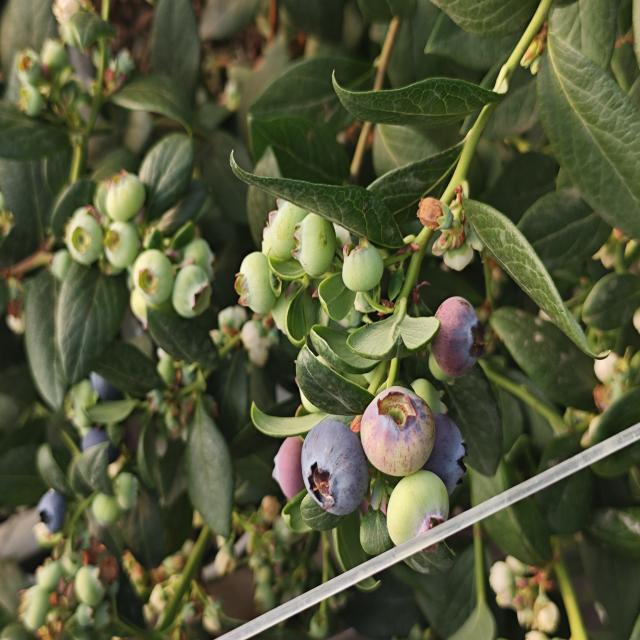ripe: (298, 416, 376, 520), (422, 414, 469, 495), (74, 420, 131, 469), (82, 357, 130, 407), (35, 486, 76, 537)
